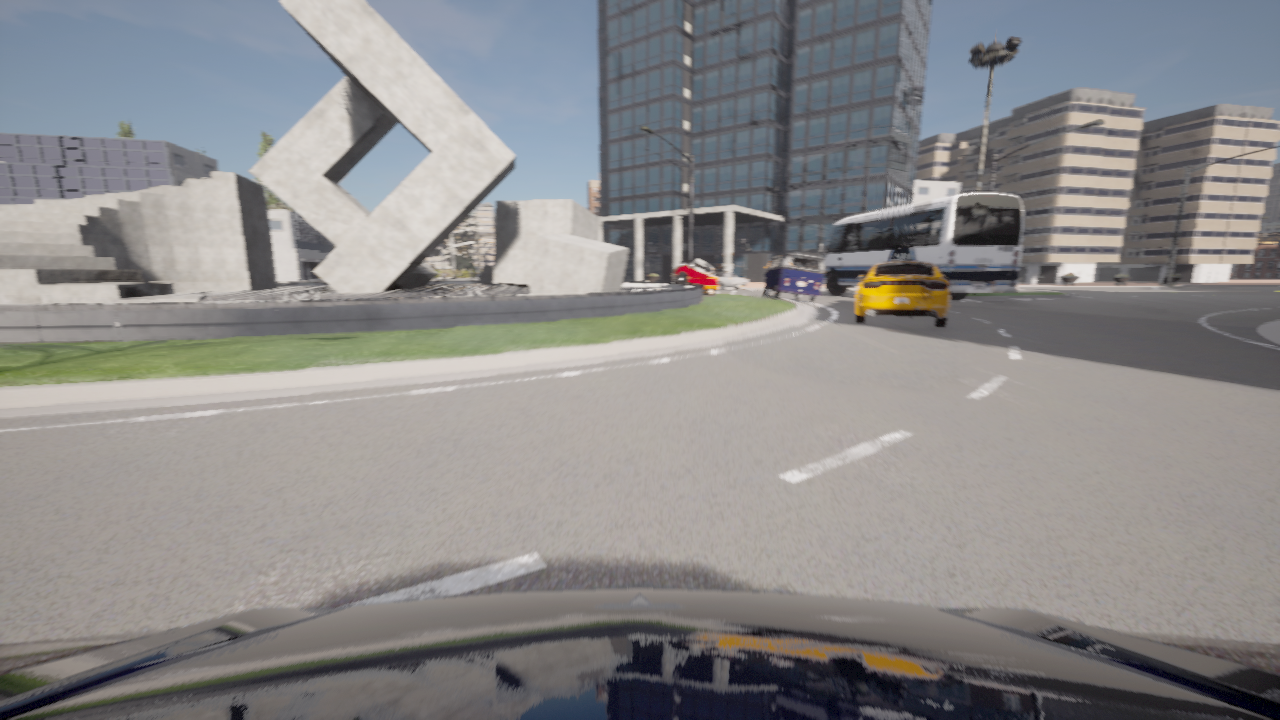cyclist: (0, 584, 1279, 719), (818, 192, 1023, 300), (855, 259, 949, 327), (763, 252, 824, 301), (672, 259, 718, 295), (716, 272, 748, 289), (475, 274, 480, 279)
